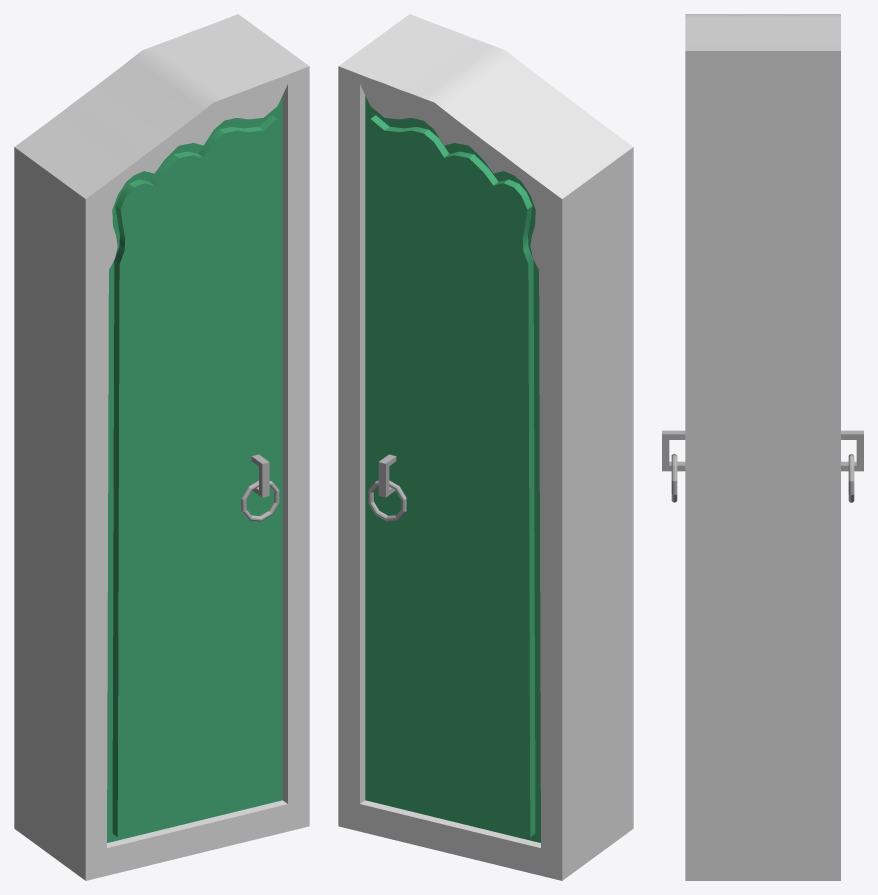
File: PortaInterna2.fbx
3 renders of one model, left to right at view 1: azimuth 30°, elevation 25°; view 2: azimuth 150°, elevation 25°; view 3: azimuth 270°, elevation 25°, orthographic. The views are drawn at different scales.
Visible parts, largest first — view 1: polySurface4; view 2: polySurface4; view 3: polySurface4.
Part boxes in pixels (left/top/right/bottom): polySurface4: left=14, top=14, right=309, bottom=880; polySurface4: left=338, top=14, right=633, bottom=880; polySurface4: left=662, top=14, right=863, bottom=880.
Size of the model in its own units: 90.55 by 294 by 64.81.
